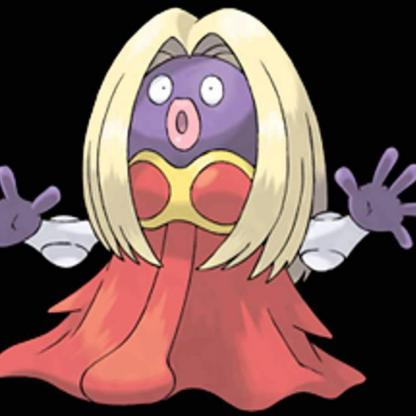Jynx: (10, 7, 416, 416)
